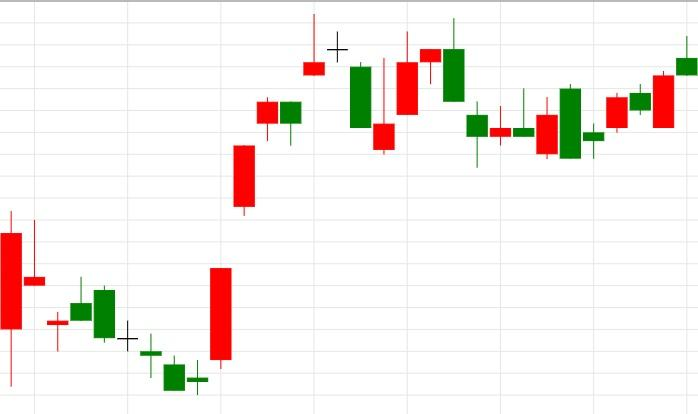bearish_engulfing_fall: (372, 18, 466, 156)
three_white_soldiers_rise: (69, 96, 279, 396), (302, 13, 442, 155)
